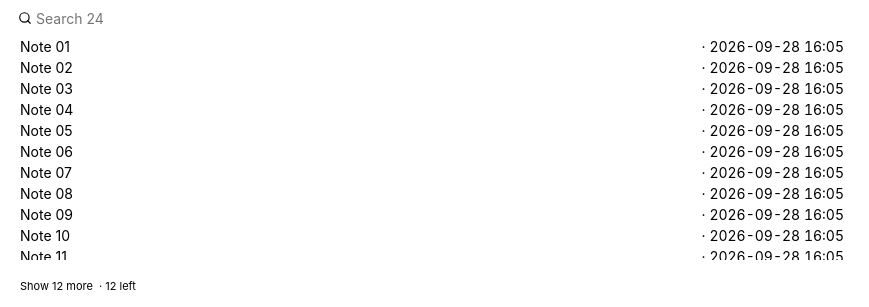
a long archive (#1191) › finds by title and by stamp, and shows every match past a page
The width and height of the screenshot is (869, 307).
In the search field: (432, 18) top-left (12, 4), bottom-right (852, 32), type "note"
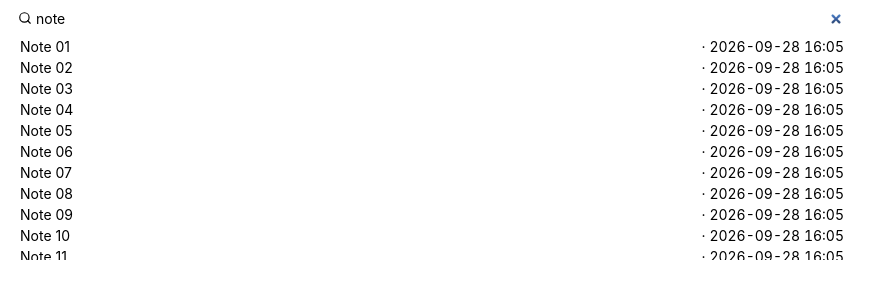
Check: the button "Show 12 more · 12 left" is gone
Replace the text in the search field with "2026-10-01": (432, 18) top-left (12, 4), bottom-right (852, 32)
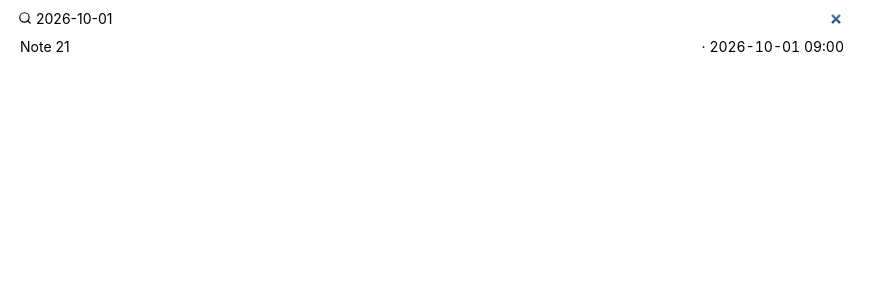
Check: the number of buttons is 1, box top-left (12, 36), bottom-right (852, 57)
